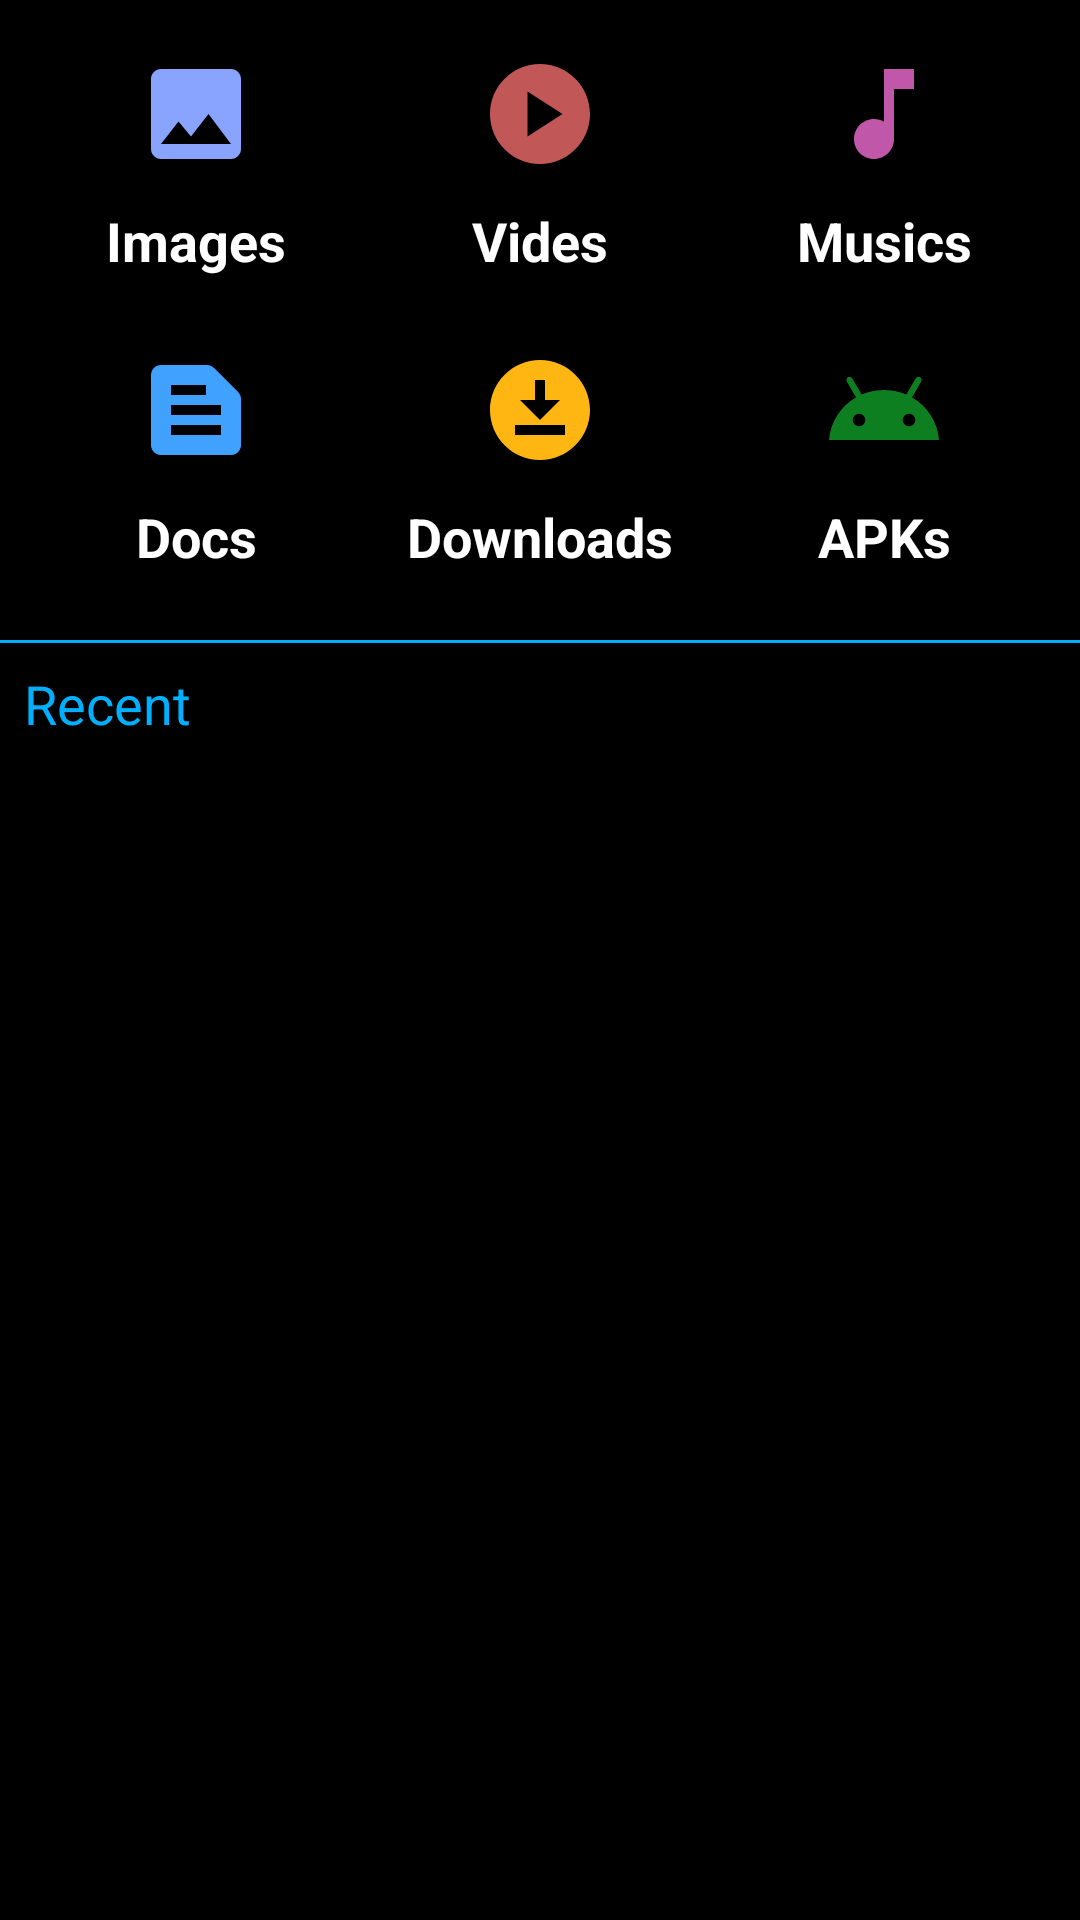

Icons on this 1080px×1920px Android screen, each with its box as {"x1": x1, "y1": y1, "x2": x2, "y2": y2}:
doc: {"x1": 151, "y1": 365, "x2": 241, "y2": 455}
play: {"x1": 490, "y1": 64, "x2": 590, "y2": 164}
